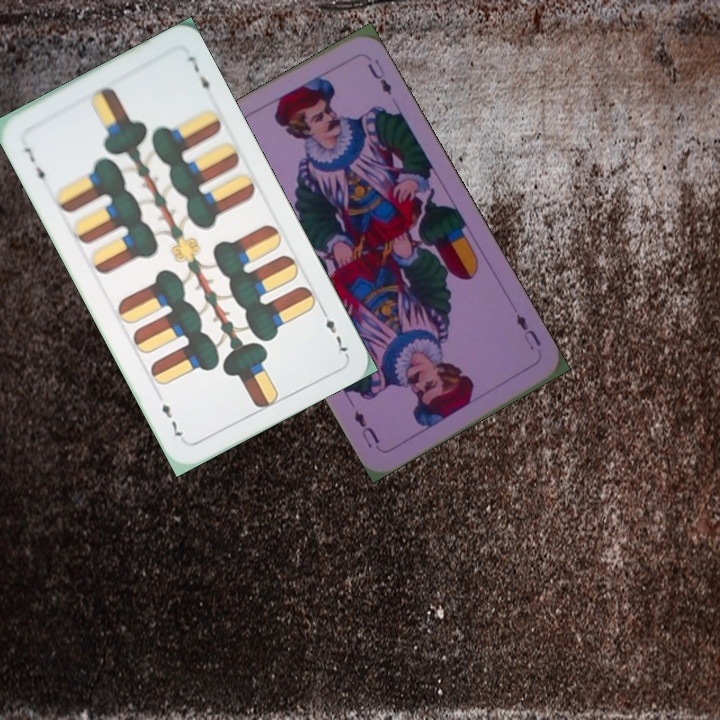E7: (321, 315, 351, 358), (20, 143, 48, 189)
EU: (512, 309, 544, 353)
